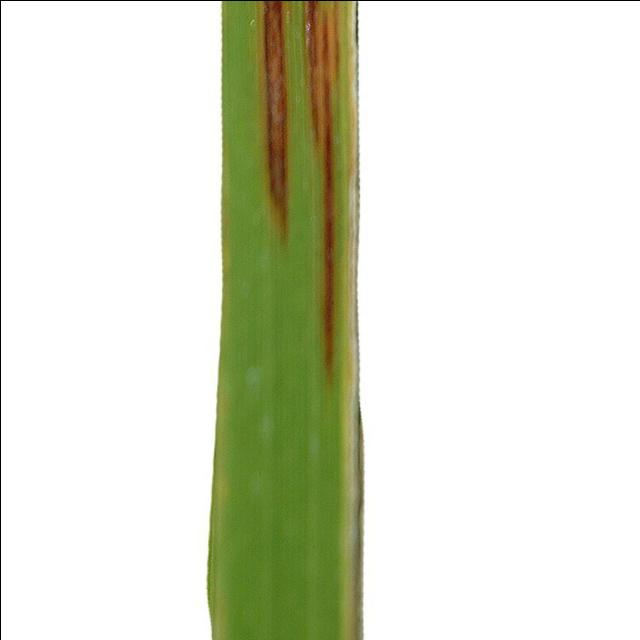Narrow brown: (175, 0, 458, 640)
